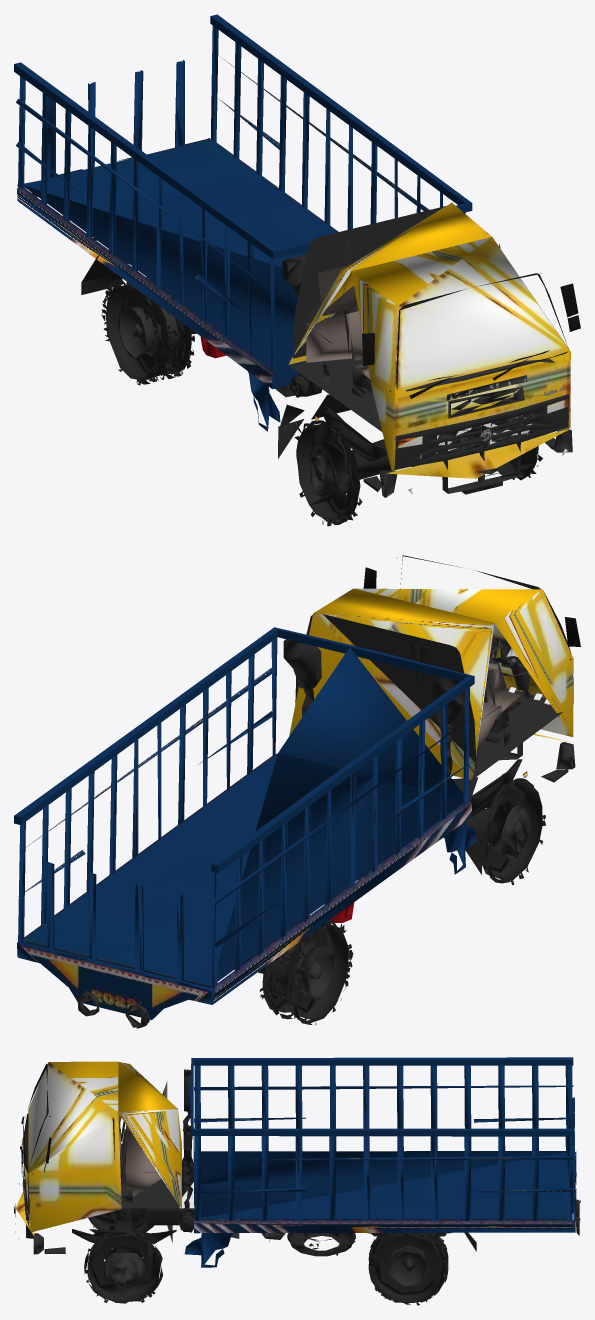
3 renders of one model, top to bottom at view 1: azimuth 30°, elevation 25°; view 2: azimuth 150°, elevation 25°; view 3: azimuth 270°, elevation 25°, orthographic. The views are drawn at different scales.
Visible parts, largest first — view 1: main body_Material.001_0, Plane.064_Material.011_0, Cylinder.012_Material.010_0, Plane.023_Grey_0, air filter_Tire_0, Circle.003_Material.018_0, Plane.041_Material.012_0, Cube.002_Sleeping seat_0, Cylinder.014_black_0, wiper_Material.004_0, Plane.003_Material.014_0; view 2: Cylinder.012_Material.010_0, Plane.064_Material.011_0, main body_Material.001_0, Plane.023_Grey_0, air filter_Tire_0, Circle.003_Material.018_0, Plane.041_Material.012_0, Cube.002_Sleeping seat_0, Cylinder.014_black_0, wiper_Material.004_0; view 3: Plane.064_Material.011_0, Cylinder.012_Material.010_0, main body_Material.001_0, air filter_Tire_0, Plane.041_Material.012_0, Circle.003_Material.018_0, Plane.023_Grey_0, Cube.002_Sleeping seat_0, Plane.003_Material.014_0.
Part boxes in pixels (x1,y1,x2,y2): main body_Material.001_0: [288, 203, 571, 478]; Plane.064_Material.011_0: [14, 14, 472, 431]; Cylinder.012_Material.010_0: [24, 139, 337, 372]; Plane.023_Grey_0: [219, 206, 572, 497]; air filter_Tire_0: [101, 254, 542, 526]; Circle.003_Material.018_0: [118, 303, 337, 497]; Plane.041_Material.012_0: [32, 193, 416, 498]; Cube.002_Sleeping seat_0: [306, 265, 370, 379]; Cylinder.014_black_0: [311, 328, 554, 419]; wiper_Material.004_0: [362, 273, 580, 398]; Plane.003_Material.014_0: [396, 244, 568, 389]; Cylinder.012_Material.010_0: [22, 647, 463, 1008]; Plane.064_Material.011_0: [14, 627, 476, 1019]; main body_Material.001_0: [289, 588, 573, 780]; Plane.023_Grey_0: [77, 614, 575, 1028]; air filter_Tire_0: [259, 639, 545, 1025]; Circle.003_Material.018_0: [276, 804, 530, 999]; Plane.041_Material.012_0: [25, 759, 522, 987]; Cube.002_Sleeping seat_0: [474, 663, 520, 756]; Cylinder.014_black_0: [452, 636, 519, 801]; wiper_Material.004_0: [363, 557, 580, 659]; Plane.064_Material.011_0: [184, 1057, 576, 1267]; Cylinder.012_Material.010_0: [193, 1127, 580, 1220]; main body_Material.001_0: [15, 1061, 181, 1235]; air filter_Tire_0: [84, 1069, 448, 1305]; Plane.041_Material.012_0: [72, 1178, 566, 1264]; Circle.003_Material.018_0: [104, 1245, 428, 1288]; Plane.023_Grey_0: [14, 1117, 579, 1254]; Cube.002_Sleeping seat_0: [118, 1081, 167, 1196]; Plane.003_Material.014_0: [23, 1064, 114, 1171].
Size of the model in its own units: 3.72 by 4.16 by 11.39.
Materials: 24 (10 with a texture image).
